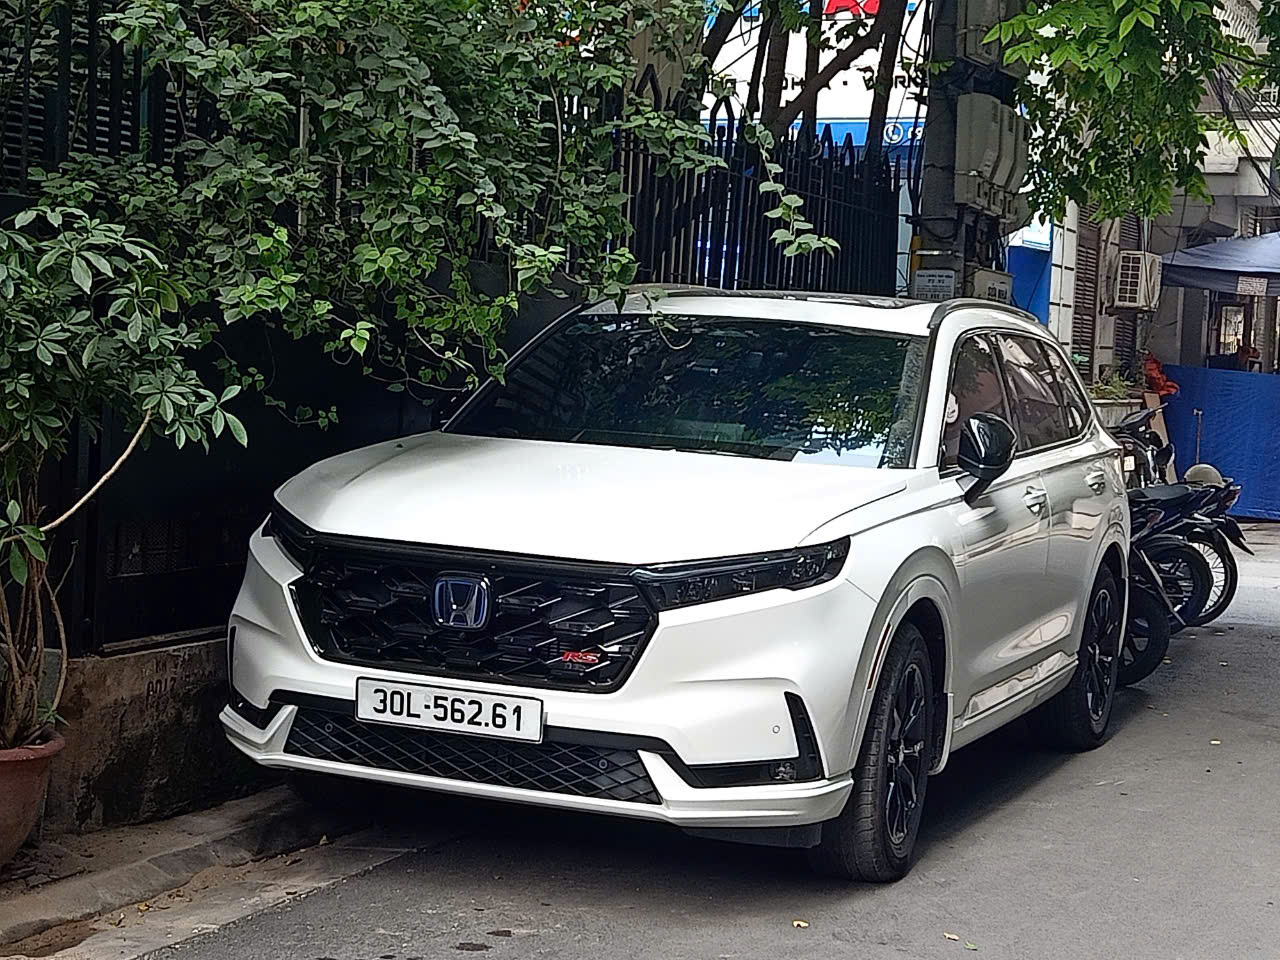bien_so: (354, 676, 544, 746)
